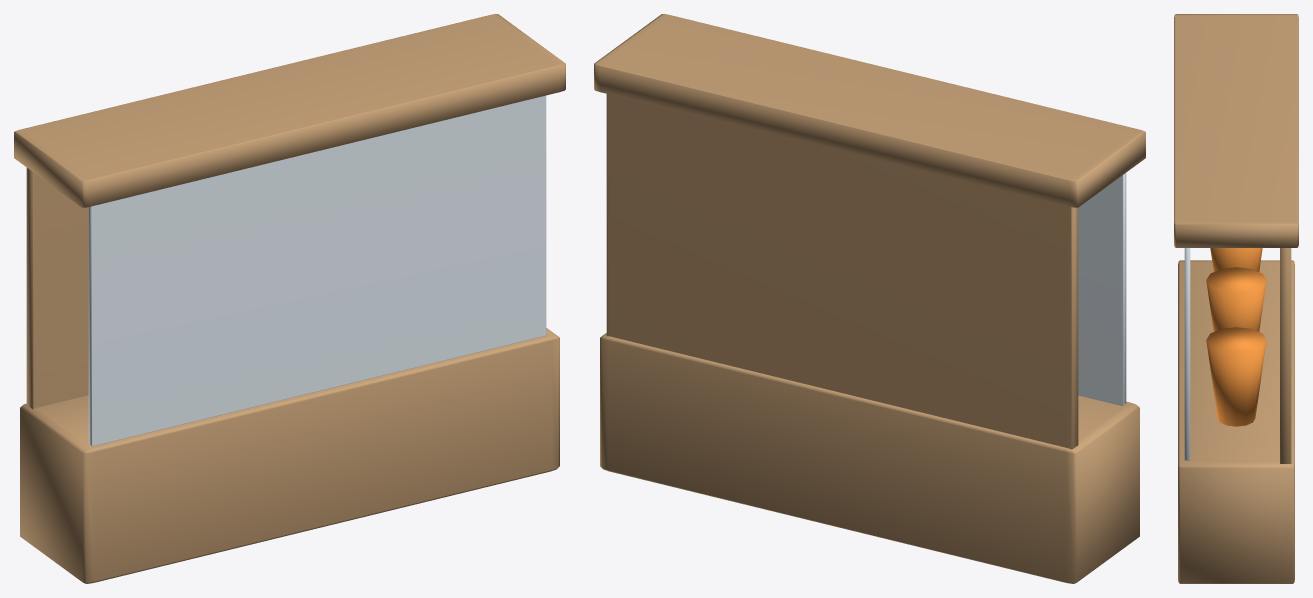
Rendered from SM_School_TrophyCase.fbx.
3 renders of one model, left to right at view 1: azimuth 30°, elevation 25°; view 2: azimuth 150°, elevation 25°; view 3: azimuth 270°, elevation 25°, orthographic. The views are drawn at different scales.
Visible parts, largest first — view 1: SM_School_TrophyCase; view 2: SM_School_TrophyCase; view 3: SM_School_TrophyCase.
Part boxes in pixels (box(x1,y1,x2,y2)): SM_School_TrophyCase: box(14, 14, 565, 583); SM_School_TrophyCase: box(594, 14, 1145, 583); SM_School_TrophyCase: box(1174, 14, 1298, 583).
Size of the model in its own units: 2.64 by 2.12 by 0.66.
